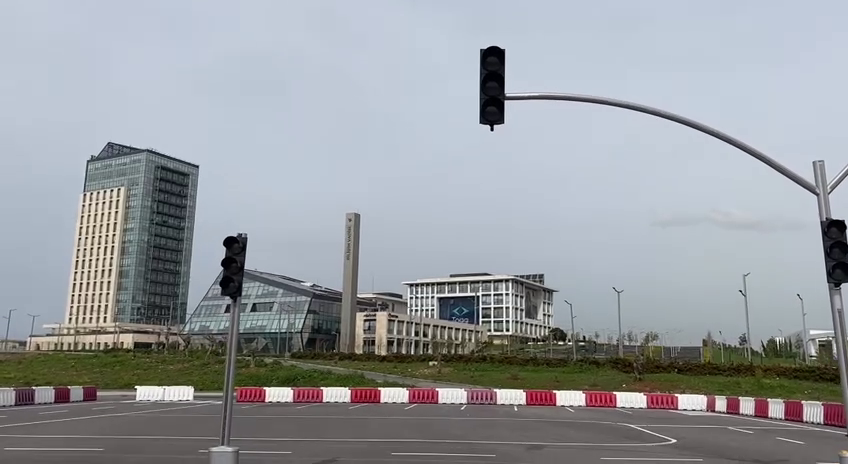trafficLight: (474, 40, 511, 133), (216, 231, 250, 302), (819, 216, 848, 290)
